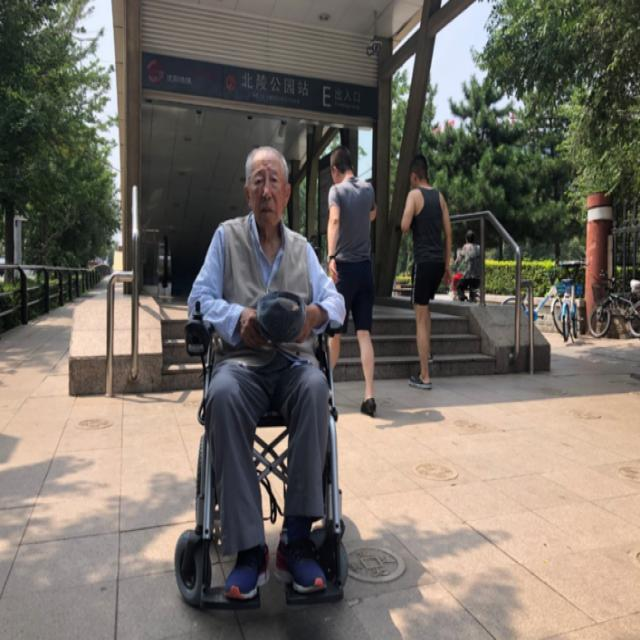wheelchairs: (172, 279, 369, 615)
